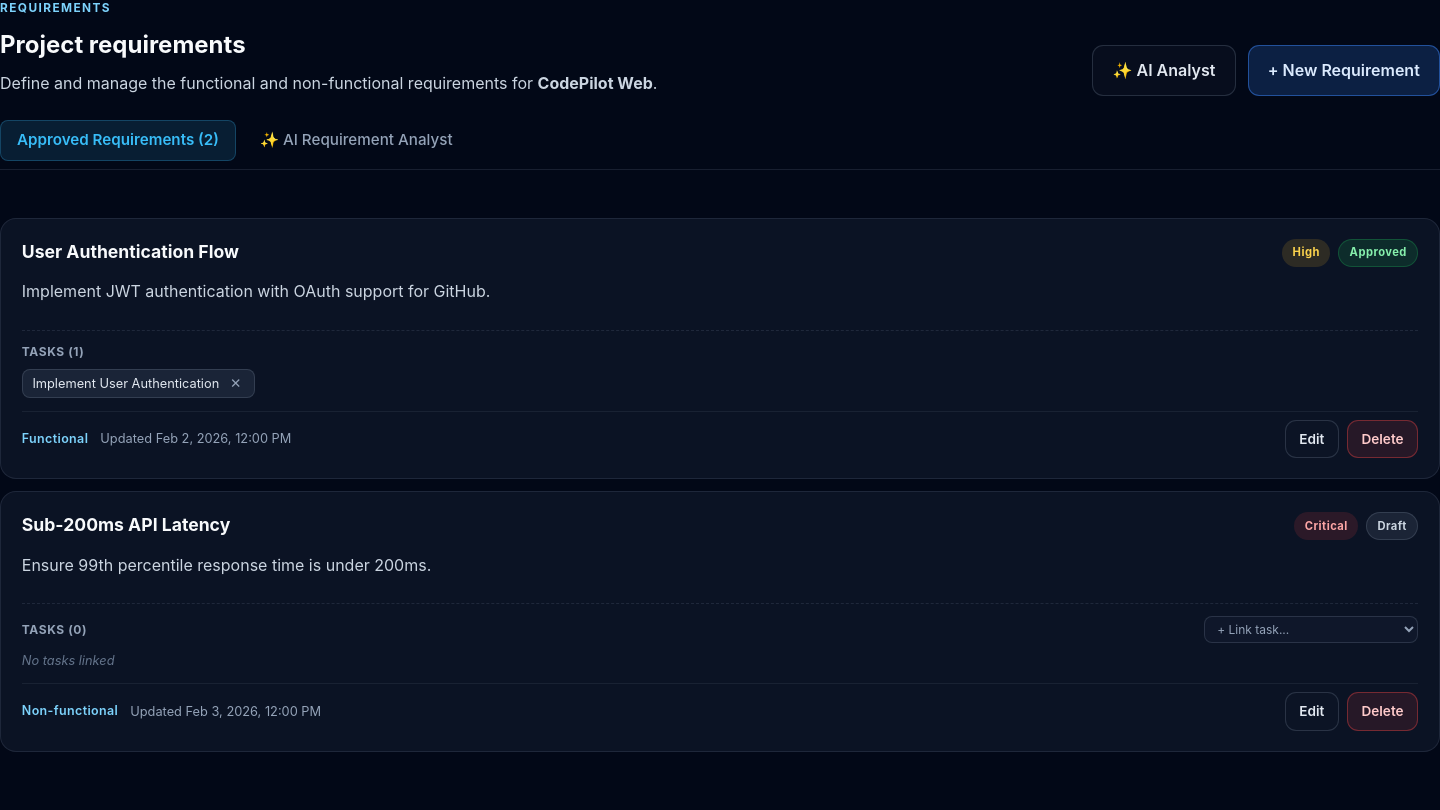
it: RequirementsPage › opens edit form populated with requirement data and saves partial changes
Expected: the heading "User Authentication Flow" is shown, [22,241,239,262]
Step 1. Click the button named "Edit User Authentication Flow" → (1312, 439), box [1285,420,1339,458]
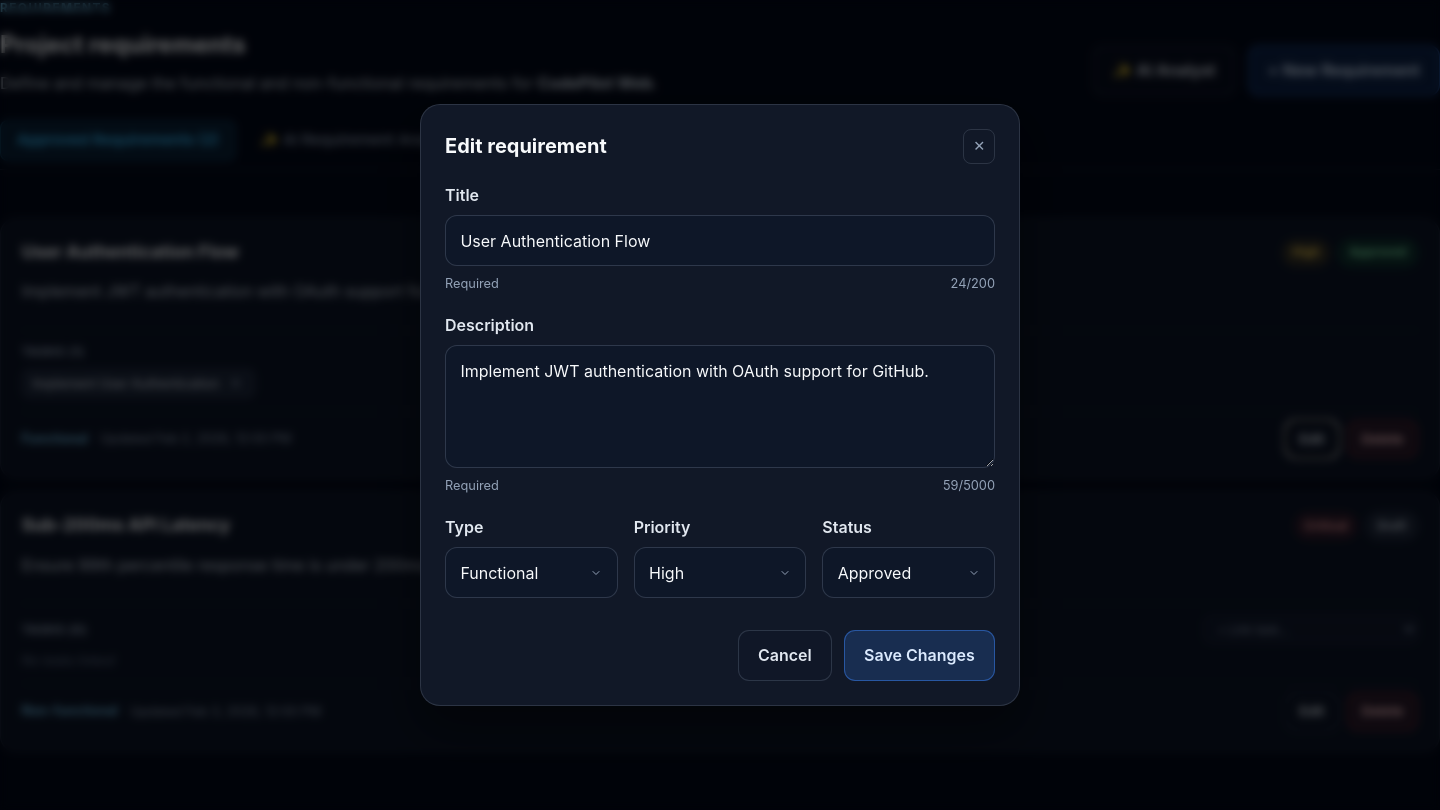
Result: the dialog "Edit requirement" is shown at [420,104,1020,706]
Result: the field labelled "Title" holds "User Authentication Flow"
Step 2. Replace the text in the field labelled "Title" with "User Authentication Flow (Updated)" → (720, 241), box [445,215,995,266]
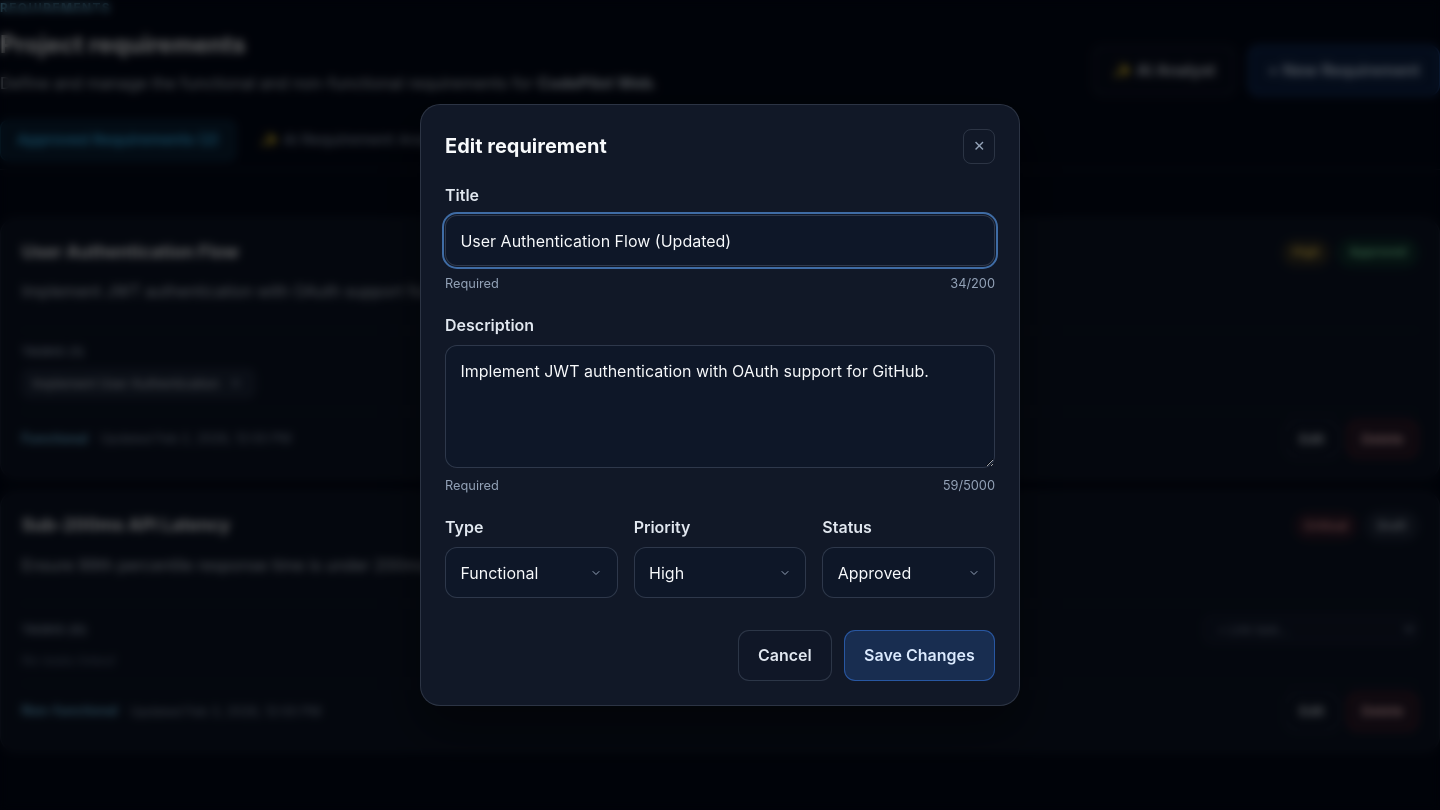
Step 3. Click the button "Save Changes" → (919, 655), box [844,630,995,681]
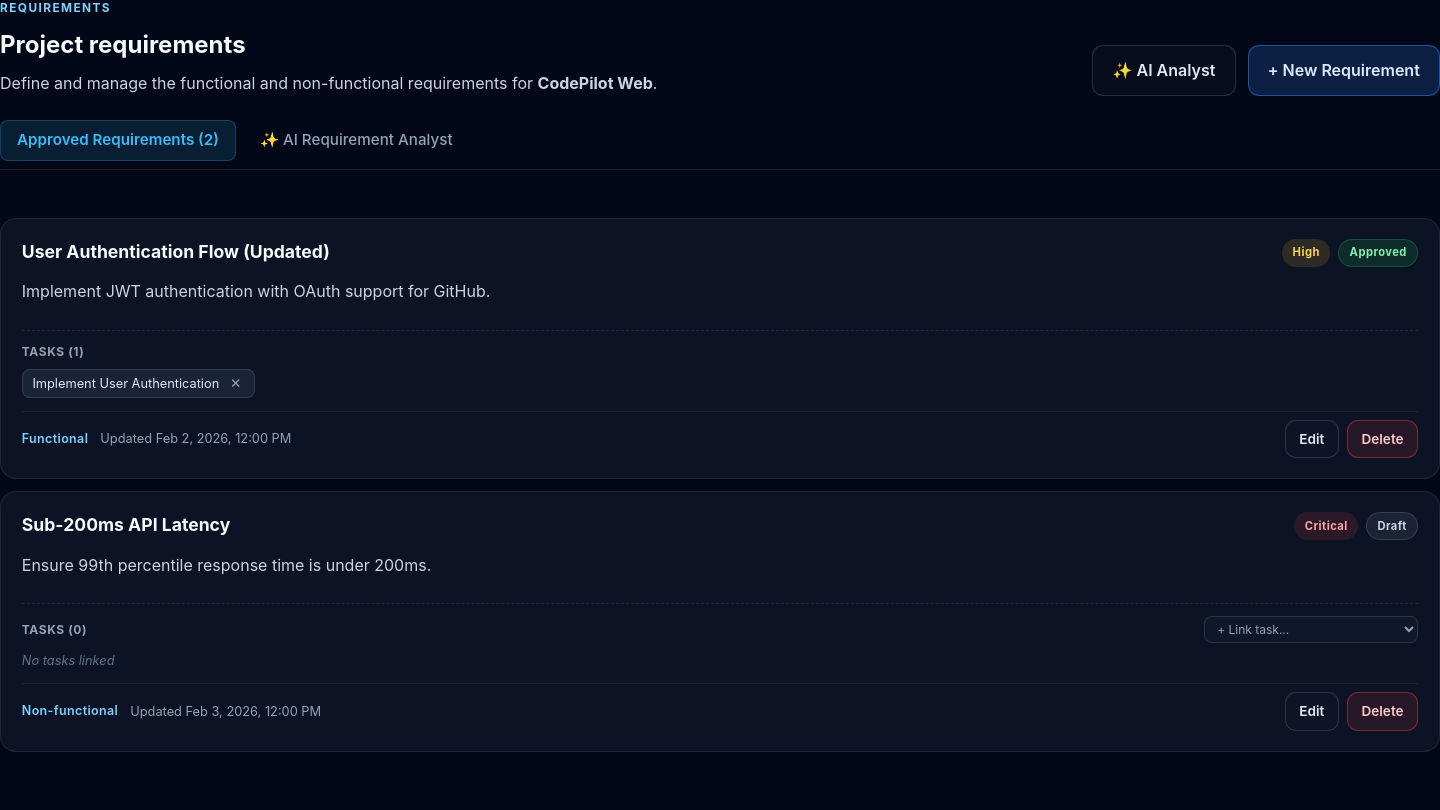
Result: the heading "User Authentication Flow (Updated)" is shown at [22,241,330,262]
